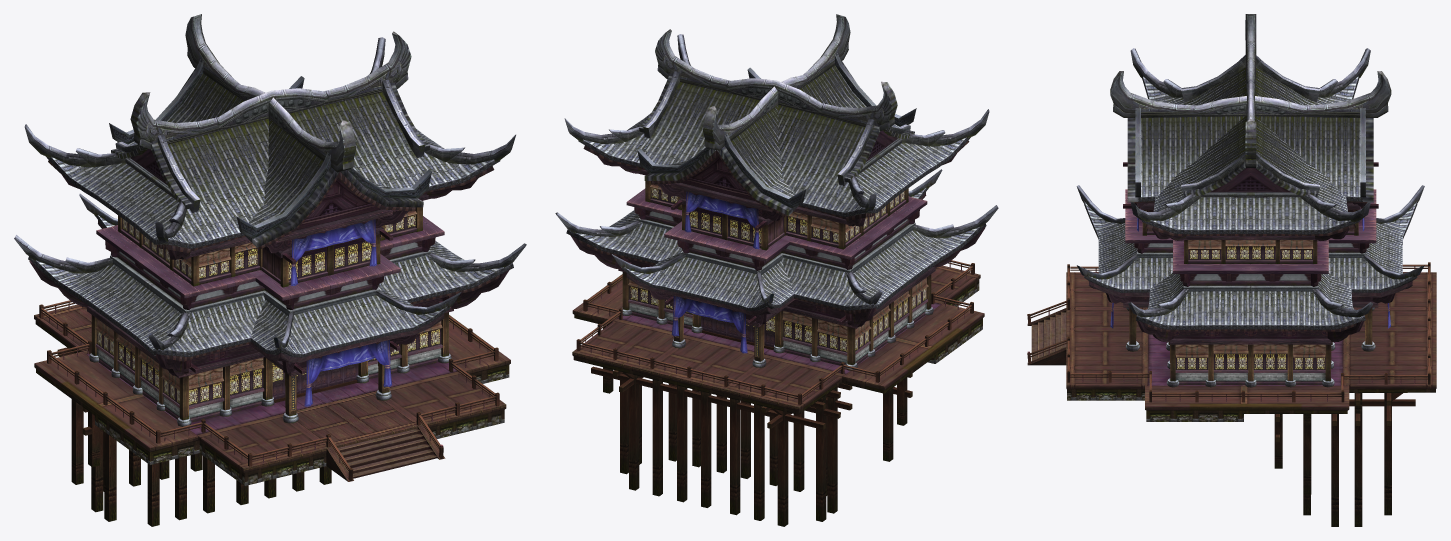
Rendered from xcz_jz_01.FBX.
The picture shows the model from 3 angles, left to right: view 1: azimuth 30°, elevation 25°; view 2: azimuth 150°, elevation 25°; view 3: azimuth 270°, elevation 25°; orthographic projection. The views are drawn at different scales.
Parts seen in each view (by area): view 1: XCZ_jz_01; view 2: XCZ_jz_01; view 3: XCZ_jz_01.
Boxes of the visible parts, x1,y1,x2,y2 form: XCZ_jz_01: (14, 14, 526, 526); XCZ_jz_01: (555, 14, 998, 526); XCZ_jz_01: (1027, 14, 1436, 526).
Size of the model in its own units: 3369 by 3946 by 3573.
